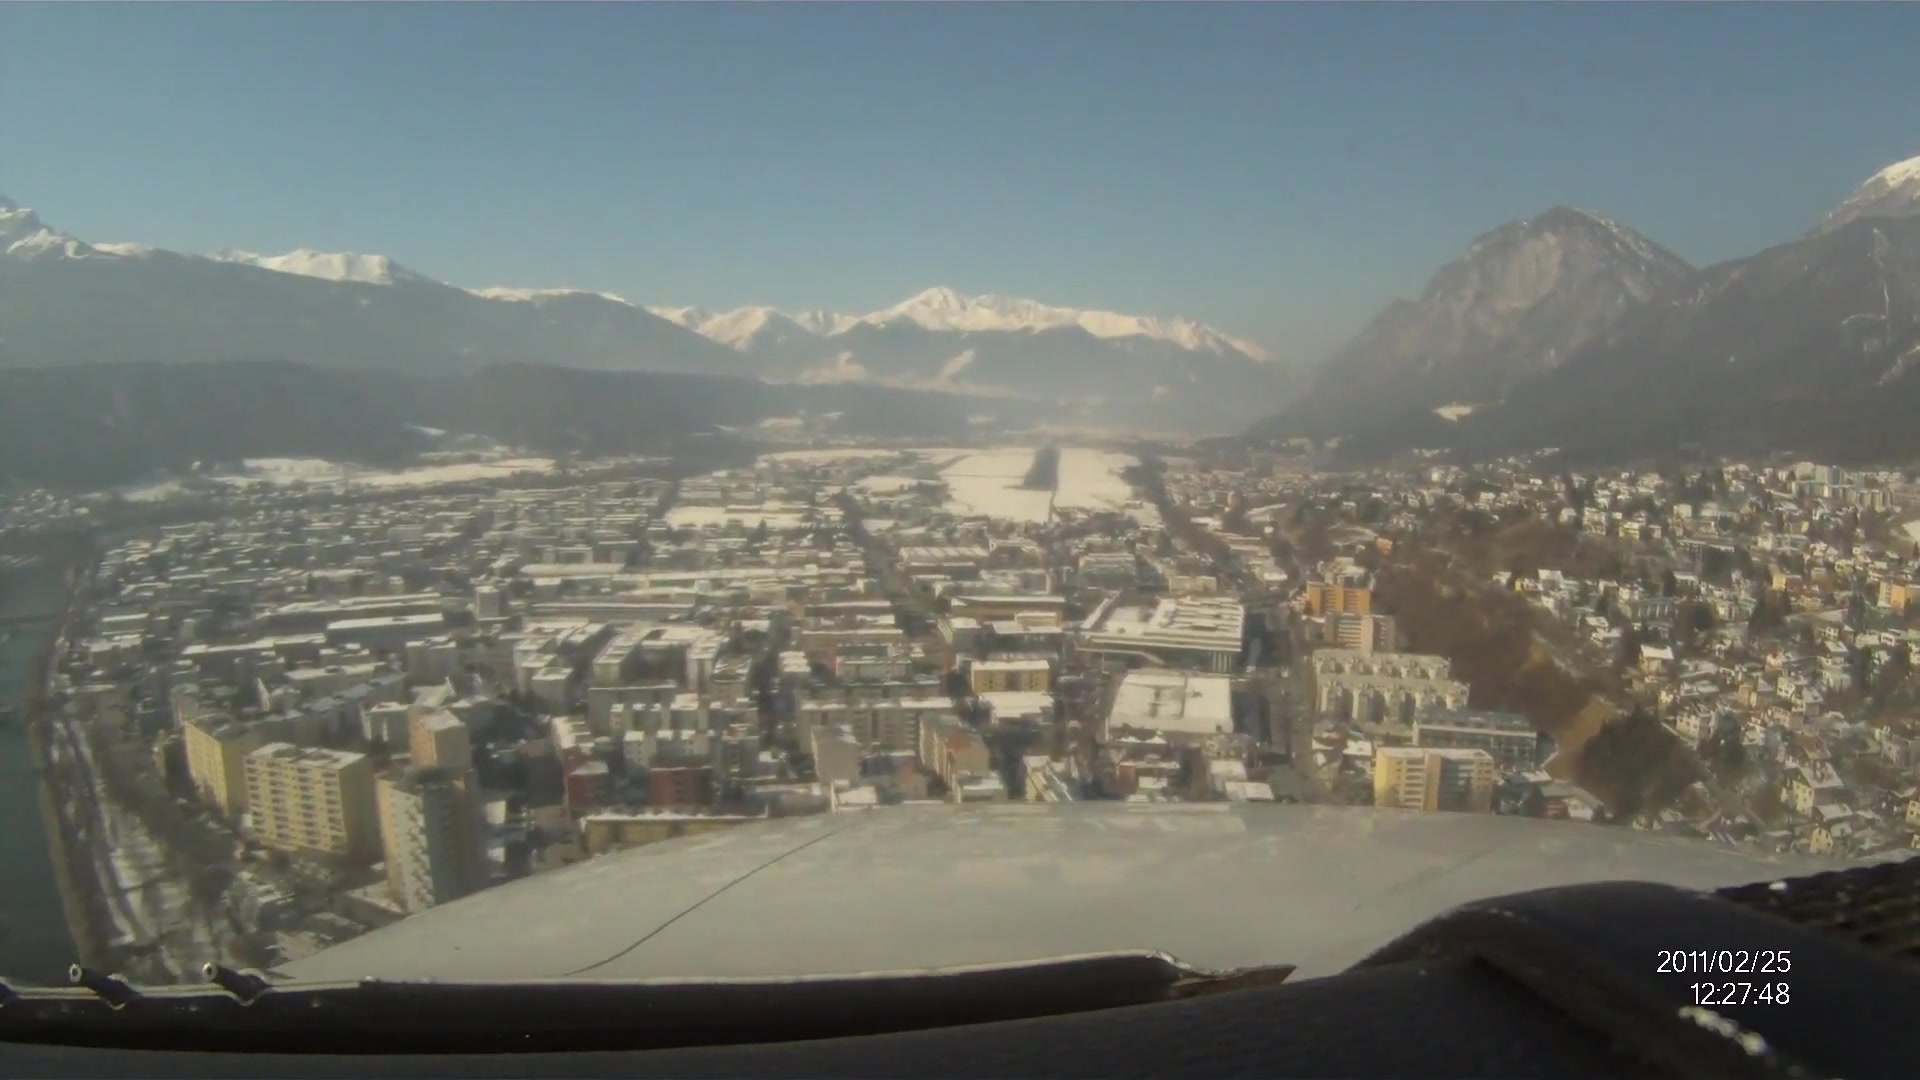runway: (1025, 444, 1060, 491)
